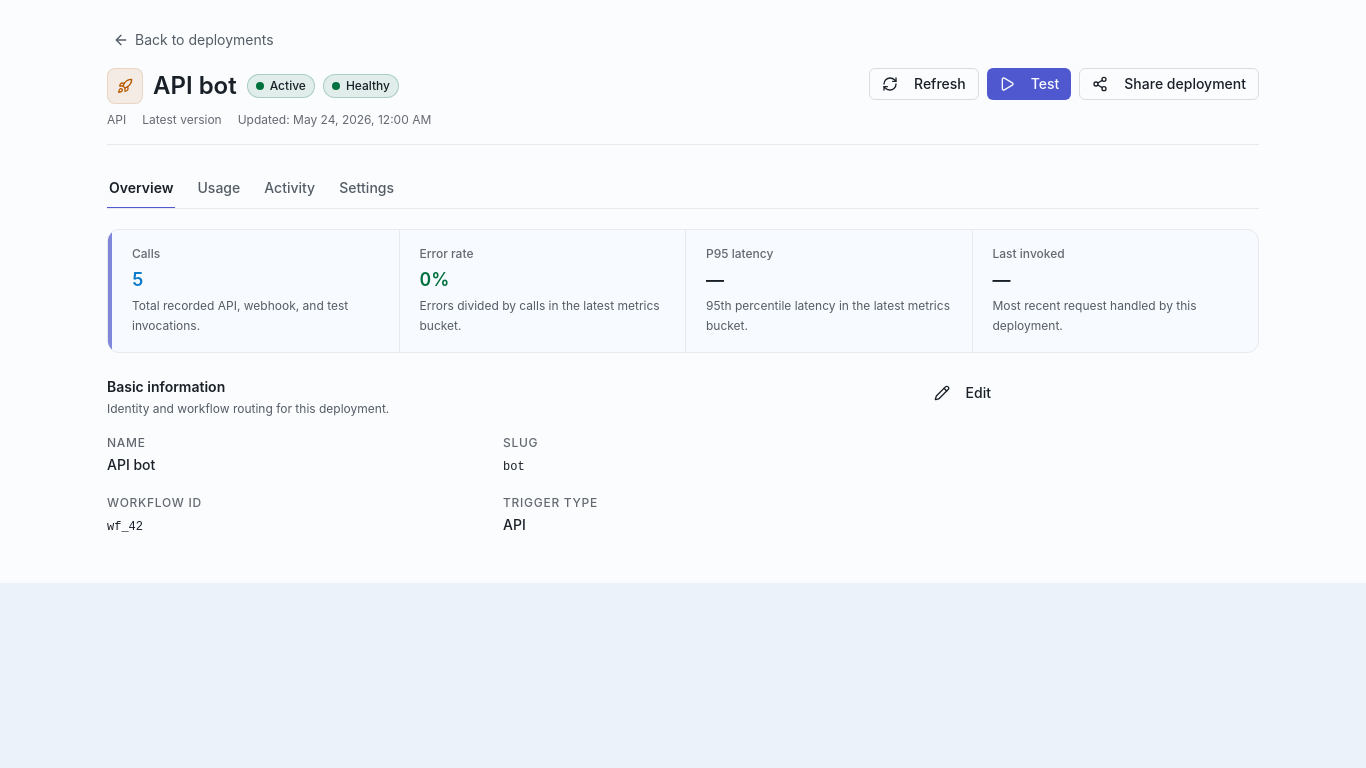
Test: <DeploymentDetailPage> › renders a recoverable history error and retries the query
Expected: the heading "API bot" is shown, [153, 70, 237, 102]
Click the tab "Activity" at (290, 189), box [262, 169, 317, 209]
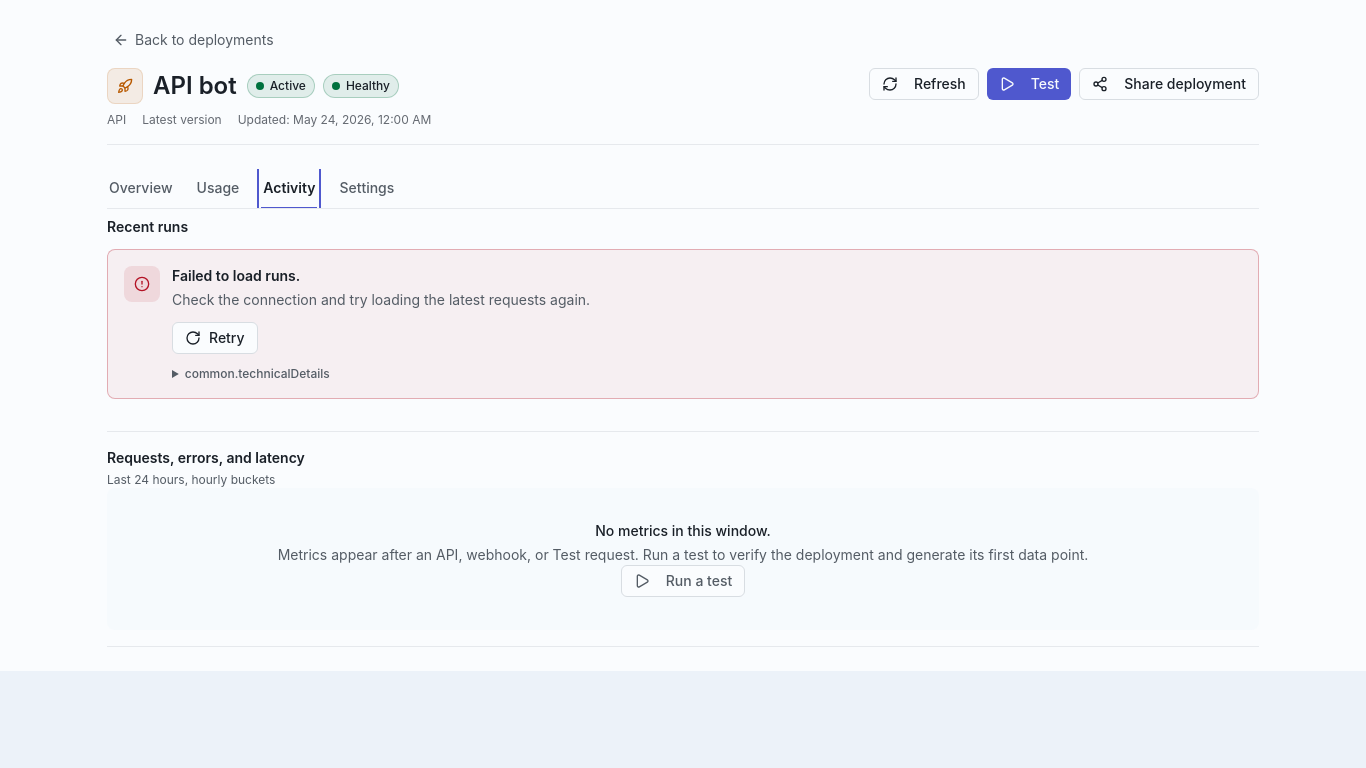
Expected: the heading "Failed to load runs." is shown, [172, 267, 300, 284]
Click the button "Retry" at (215, 338), box [172, 322, 258, 354]
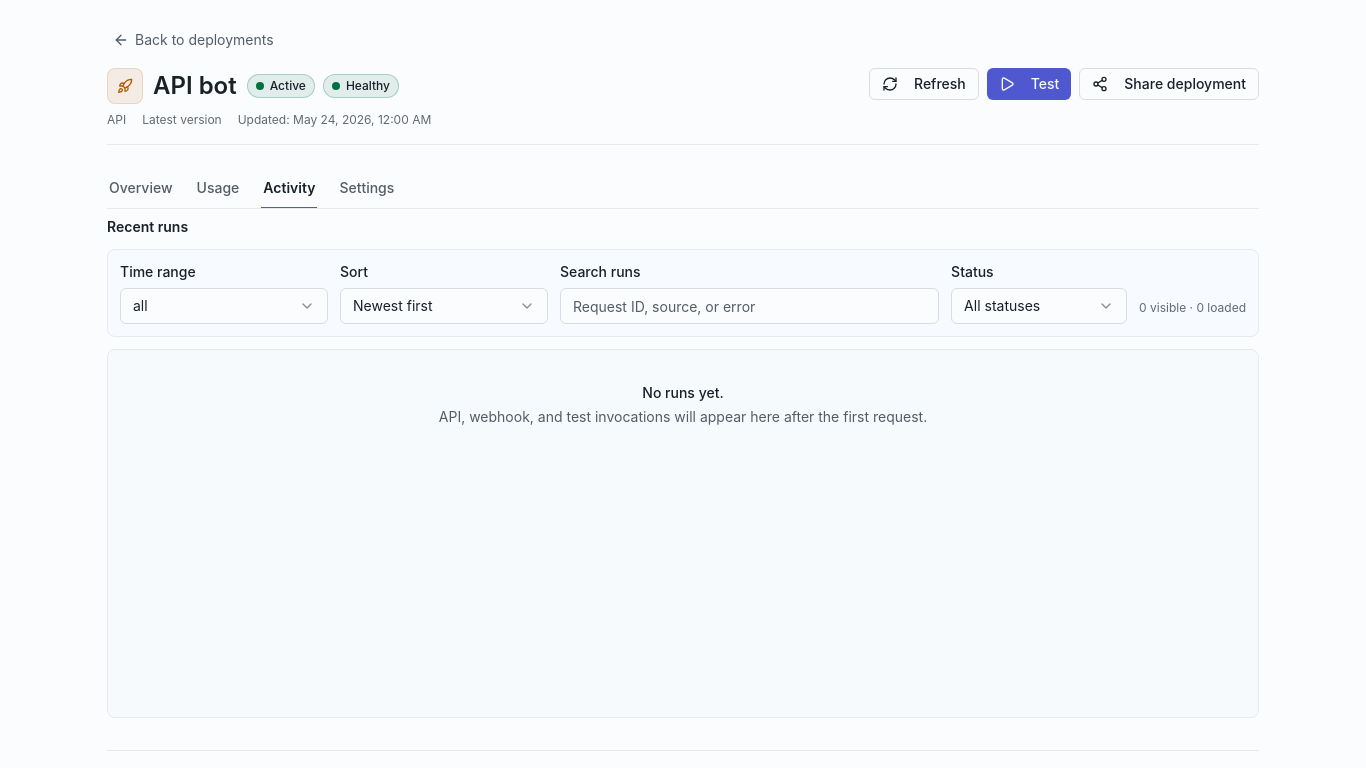
Expected: the text "No runs yet." is shown, [642, 384, 724, 401]
